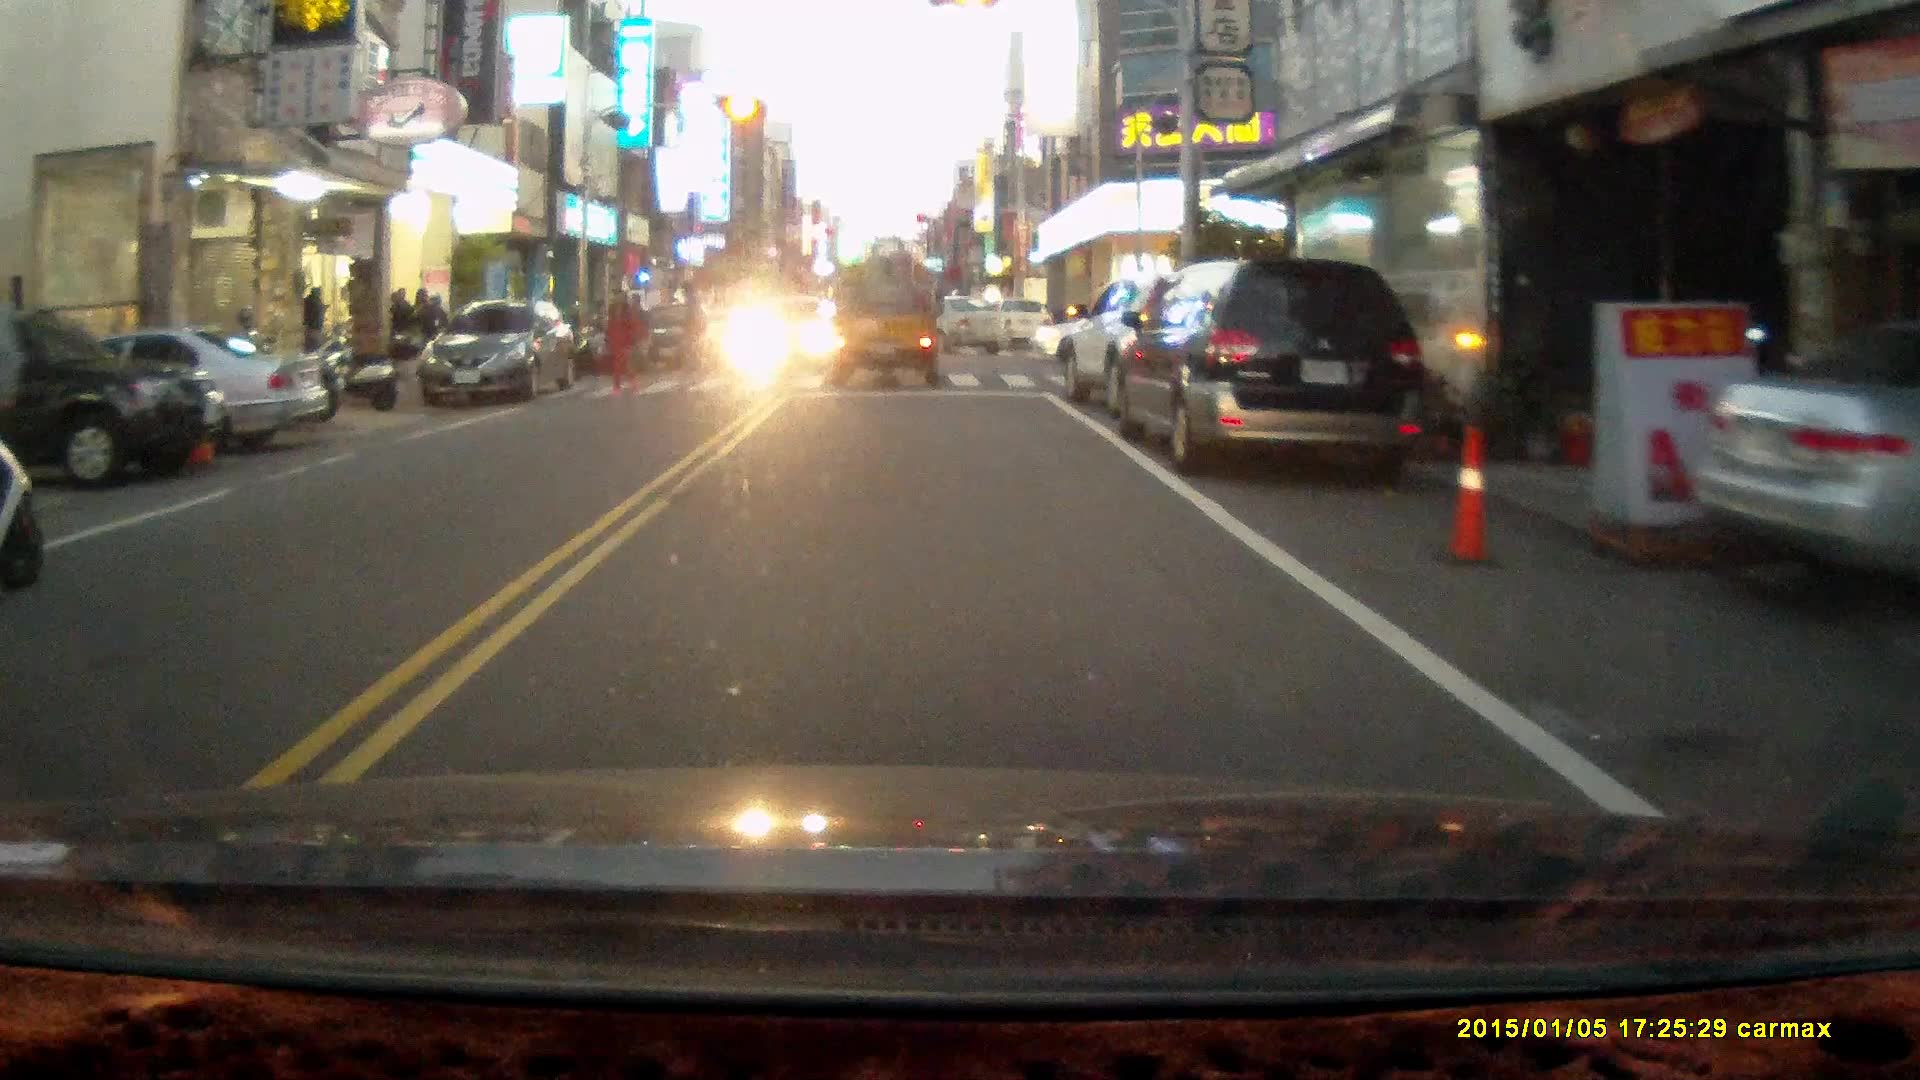pedestrian: (600, 284, 636, 391), (299, 282, 330, 368)
vehicle: (1104, 257, 1429, 474), (1695, 340, 1920, 563), (1, 299, 230, 493), (14, 327, 328, 454), (1060, 276, 1287, 426), (820, 236, 950, 389), (424, 302, 581, 406), (887, 297, 1016, 359), (631, 303, 726, 370)
